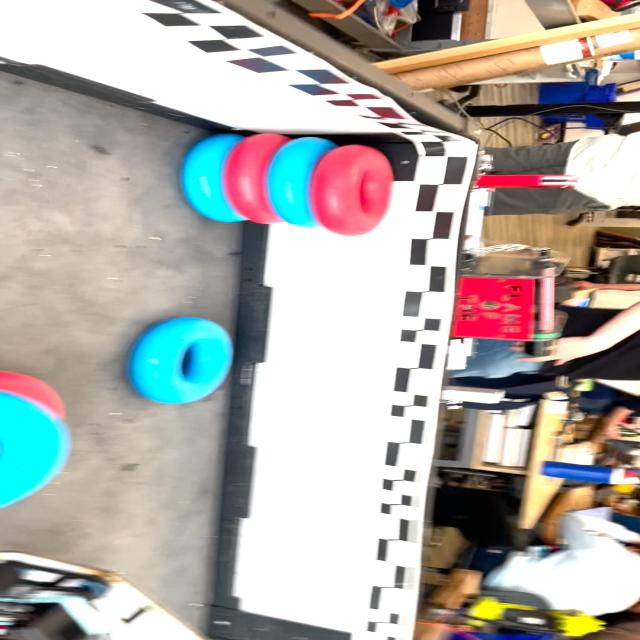Blue-Ring: (129, 318, 233, 404), (0, 392, 71, 507), (267, 138, 338, 228), (182, 134, 244, 222)
Red-Ring: (309, 145, 393, 236), (222, 134, 291, 224)
